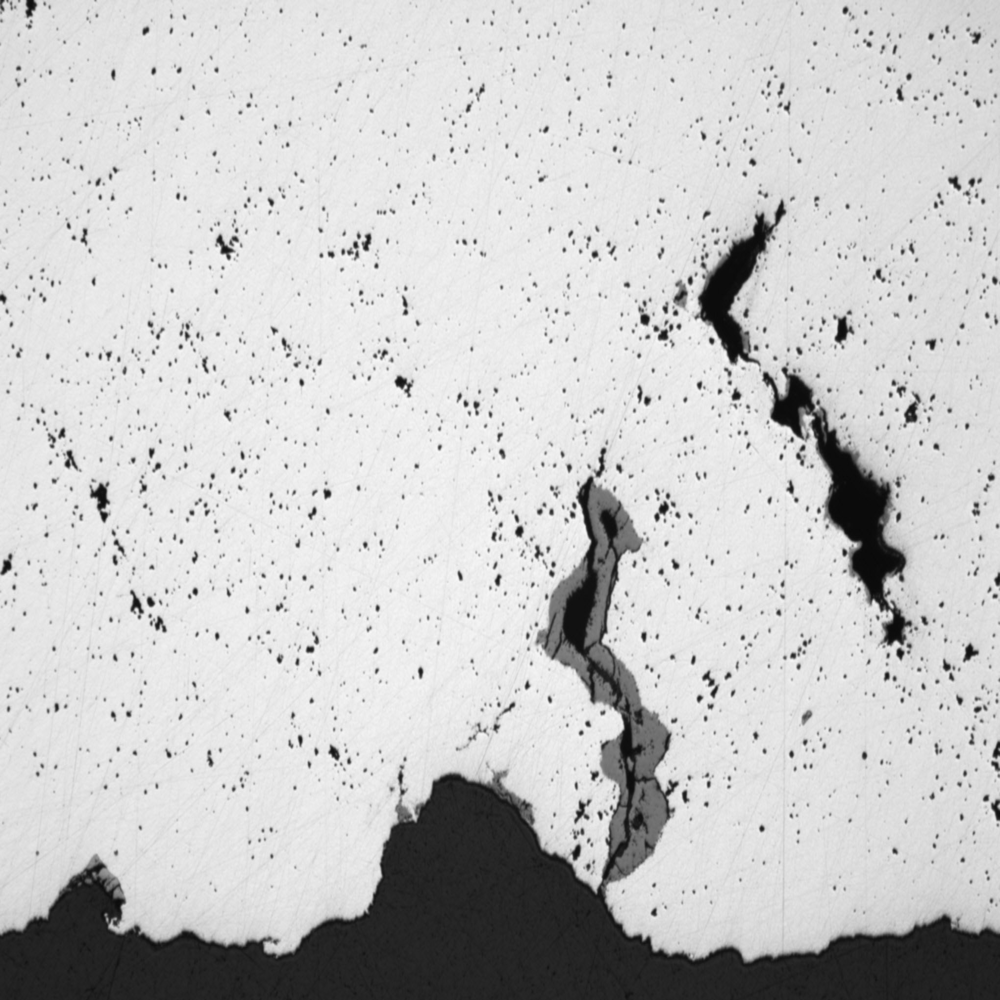crack: (660, 199, 967, 663), (293, 733, 663, 987), (518, 452, 668, 915)
